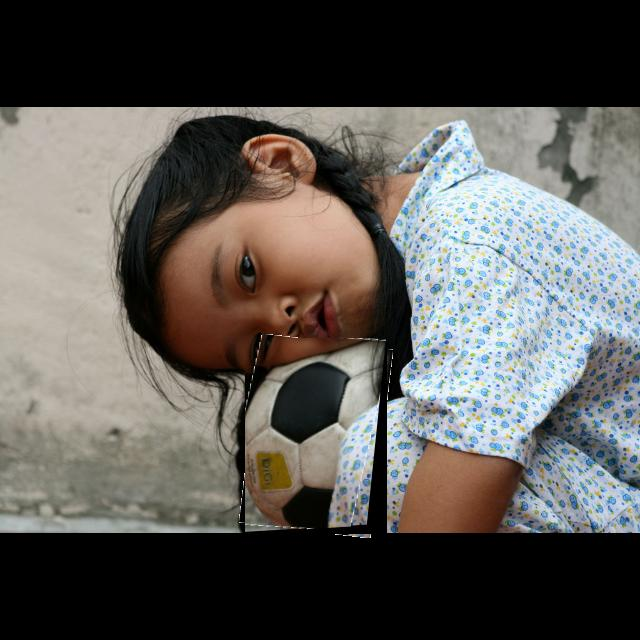Football: (245, 338, 387, 534)
